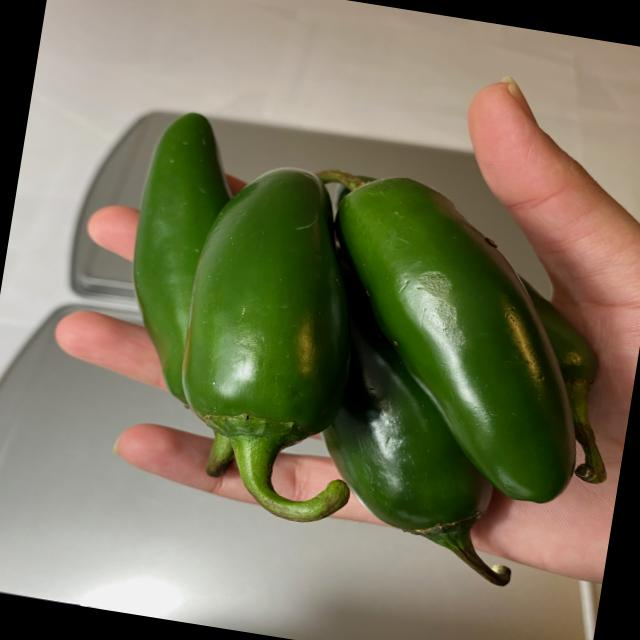chilli: (91, 100, 640, 610)
